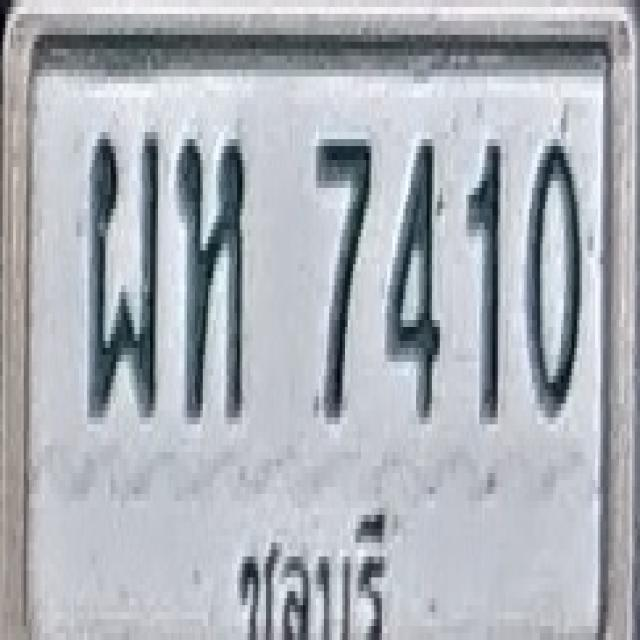0: (525, 132, 581, 418)
1: (466, 136, 501, 421)
4: (386, 132, 441, 418)
7: (314, 132, 372, 418)
A28: (89, 125, 160, 418)
A41: (176, 132, 245, 418)
CBI: (230, 492, 397, 640)
